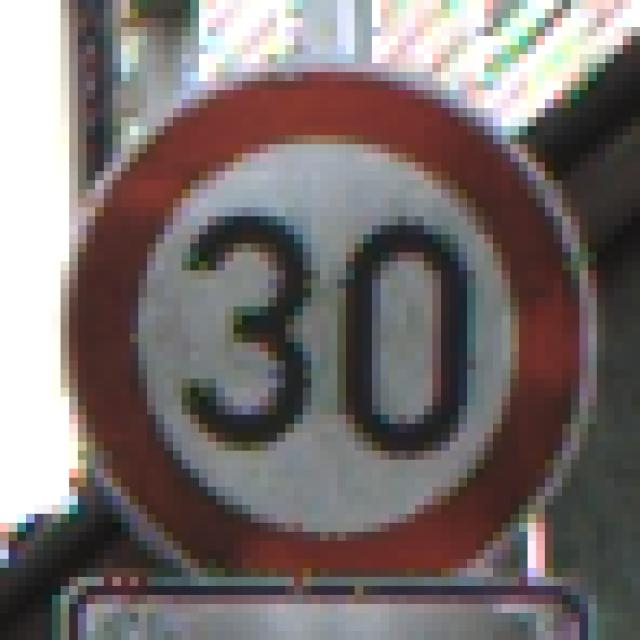Speed Limit -30-: (48, 59, 575, 572)
